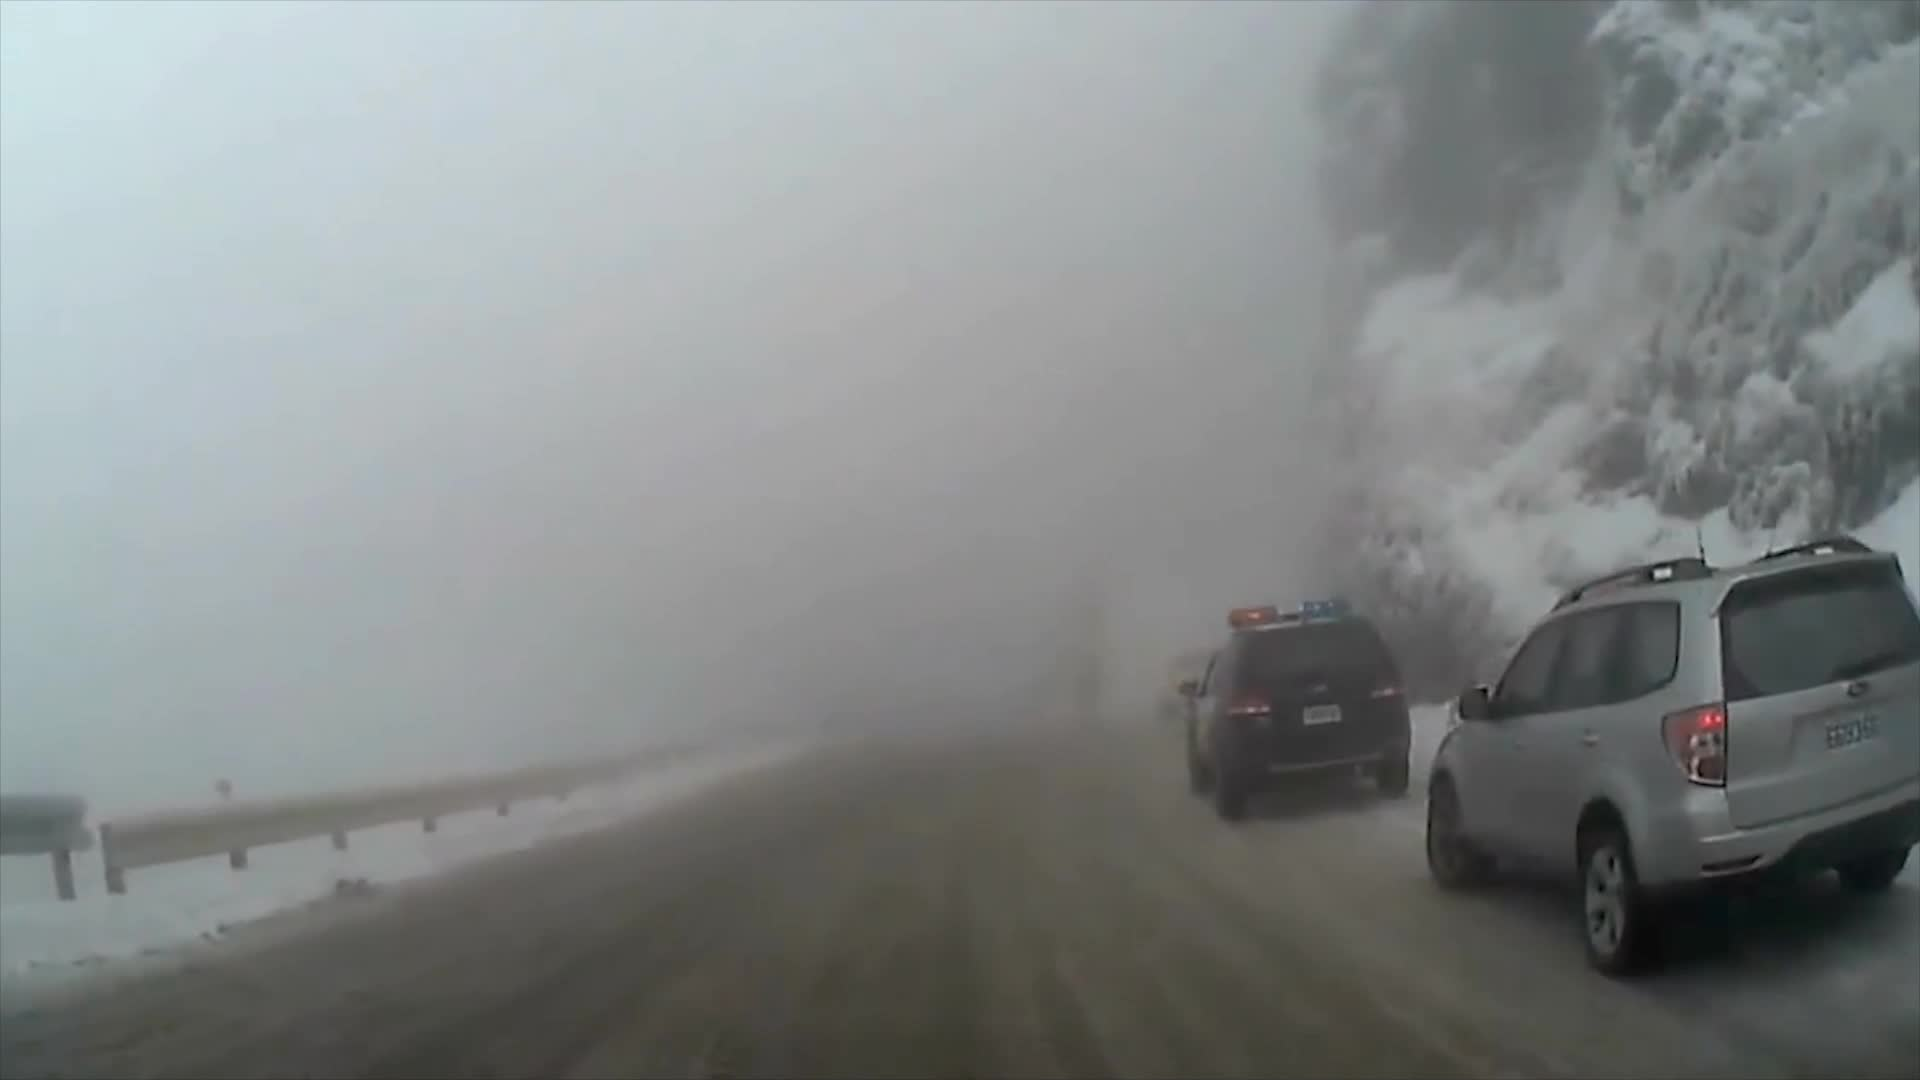vehicle: (1423, 533, 1920, 978), (1175, 589, 1410, 816)
